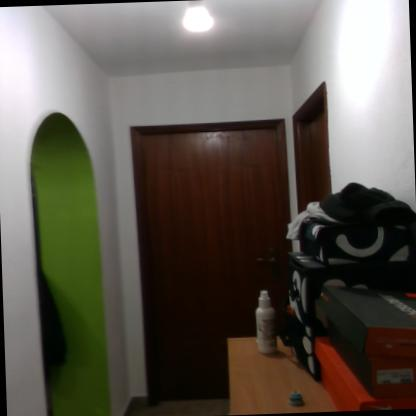closed: (120, 110, 300, 400)
